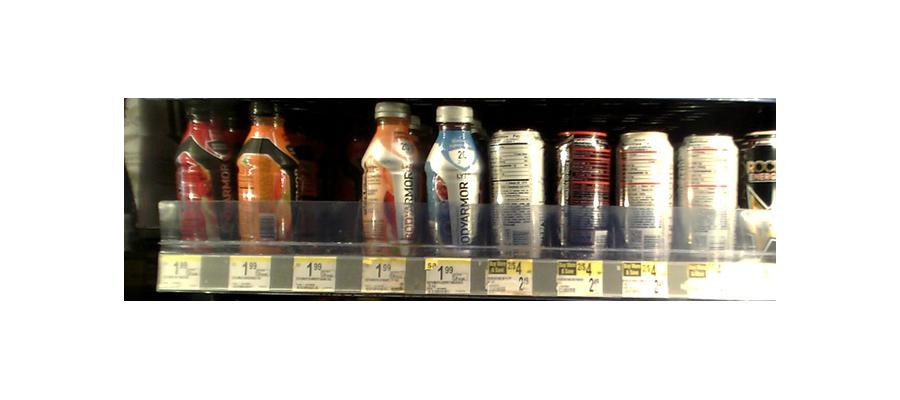bottle: (359, 97, 419, 258), (424, 102, 483, 256), (235, 96, 292, 251), (172, 99, 232, 246), (616, 133, 678, 263), (488, 134, 550, 262), (681, 134, 737, 260), (556, 132, 611, 257), (743, 124, 783, 255)
